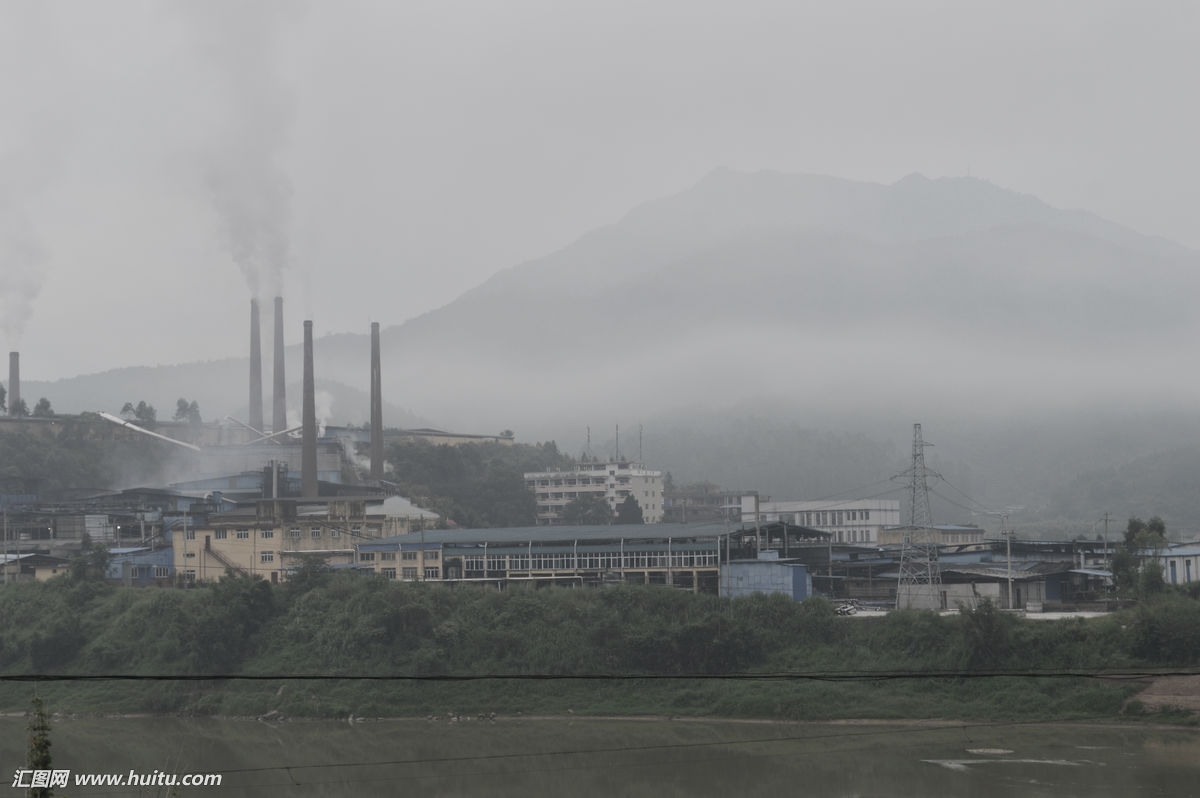dust: (199, 182, 305, 325), (5, 251, 62, 373)
